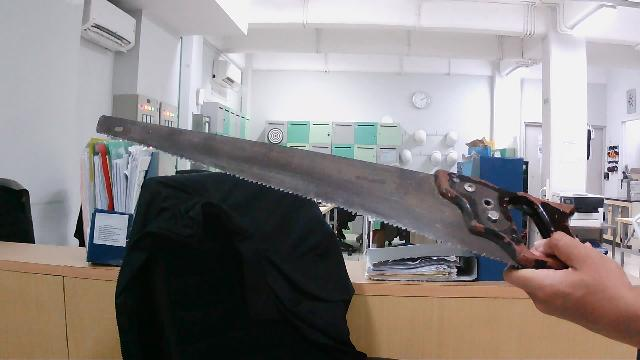gergaji_kayu: (95, 108, 581, 280)
